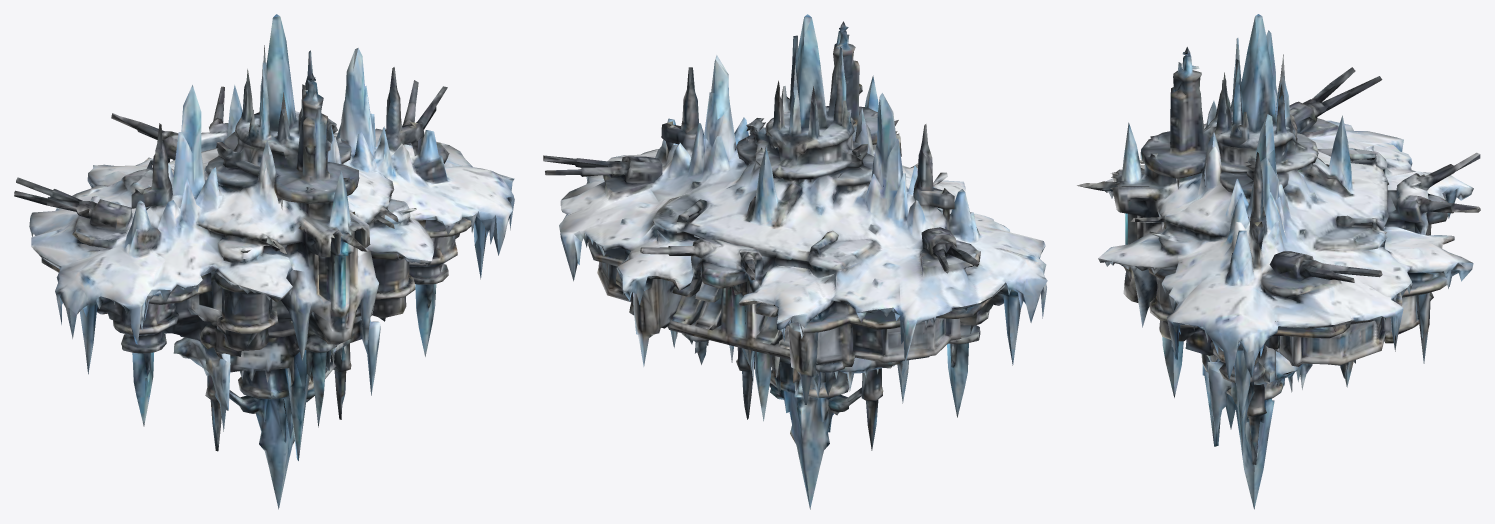
File: HL_Station_Arctides_Military_retopo.glb
3 renders of one model, left to right at view 1: azimuth 30°, elevation 25°; view 2: azimuth 150°, elevation 25°; view 3: azimuth 270°, elevation 25°, orthographic.
Visible parts, largest first — view 1: HL_Station_Arctides_Military_retopo; view 2: HL_Station_Arctides_Military_retopo; view 3: HL_Station_Arctides_Military_retopo.
Boxes of the visible parts, left/top/right/bottom form: HL_Station_Arctides_Military_retopo: left=14, top=14, right=514, bottom=509; HL_Station_Arctides_Military_retopo: left=543, top=14, right=1047, bottom=509; HL_Station_Arctides_Military_retopo: left=1077, top=14, right=1480, bottom=509.
Size of the model in its own units: 0.9657 by 0.989 by 0.733.
1 material, 1 textured.
